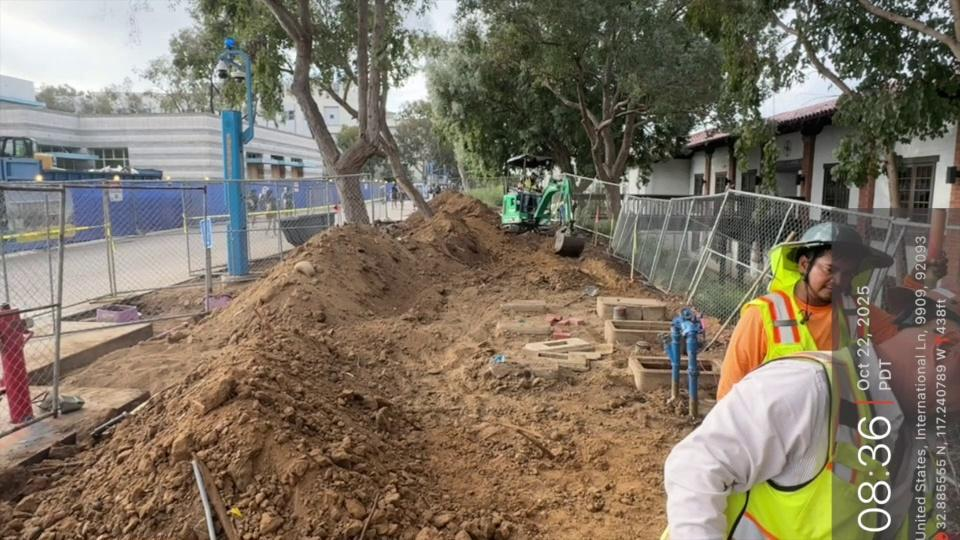Exacavator: (496, 152, 586, 257)
